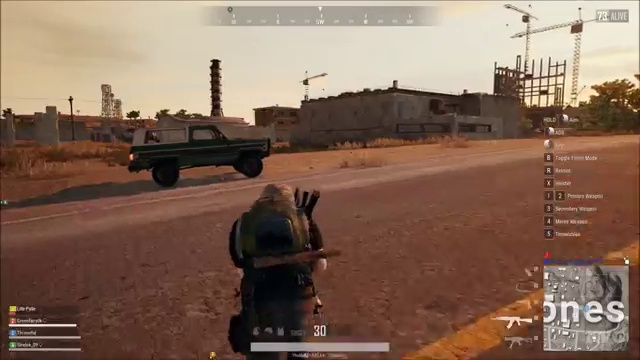Player: (218, 180, 343, 319)
